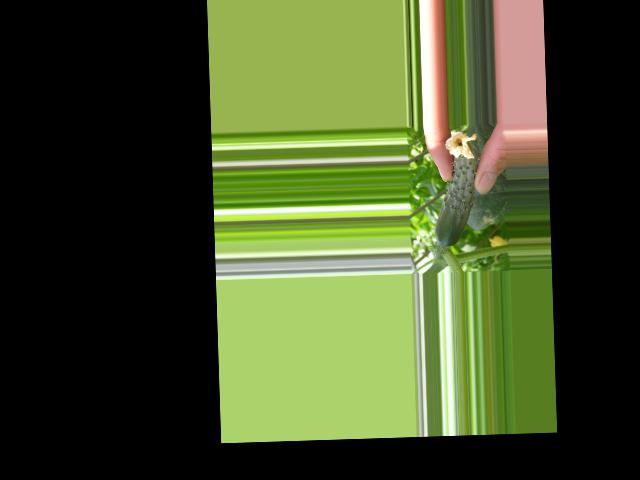cucumber: (432, 130, 480, 247)
